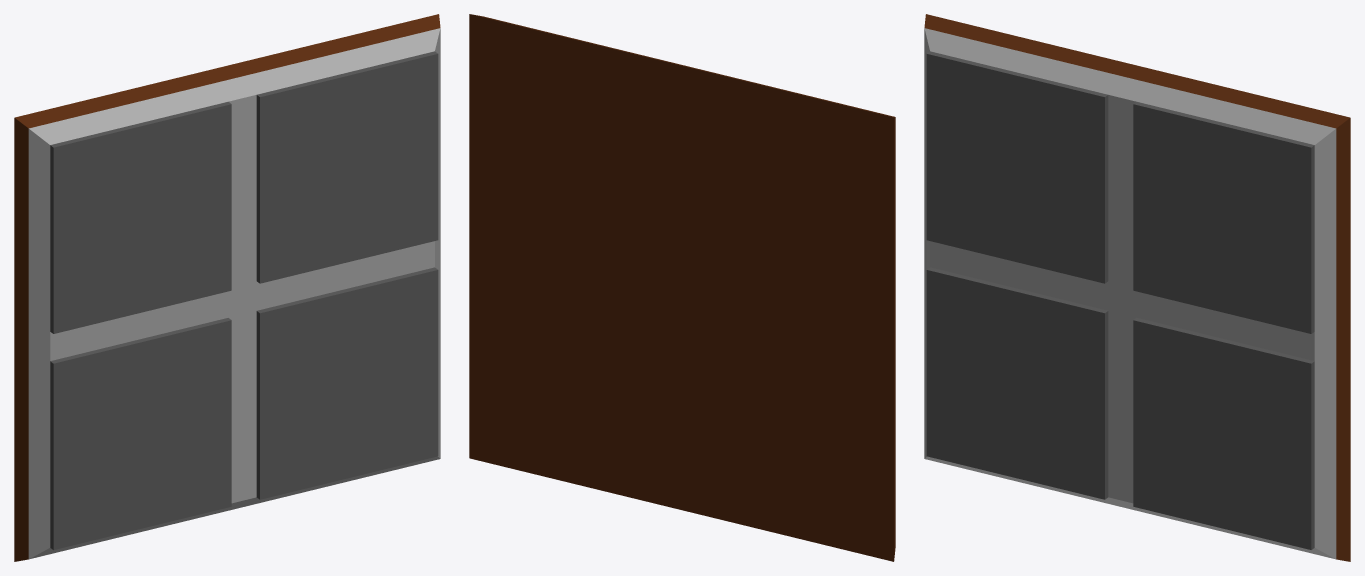
Rendered from WALL2_mid.fbx.
3 renders of one model, left to right at view 1: azimuth 30°, elevation 25°; view 2: azimuth 150°, elevation 25°; view 3: azimuth 330°, elevation 25°, orthographic.
Visible parts, largest first — view 1: WALL2_mesh; view 2: WALL2_mesh; view 3: WALL2_mesh.
Boxes of the visible parts, bbox=[...] form: WALL2_mesh: bbox=[14, 14, 440, 561]; WALL2_mesh: bbox=[469, 14, 895, 561]; WALL2_mesh: bbox=[924, 14, 1350, 561].
Bounding box in the file's own units: 11.77 × 11.77 × 0.9187.
